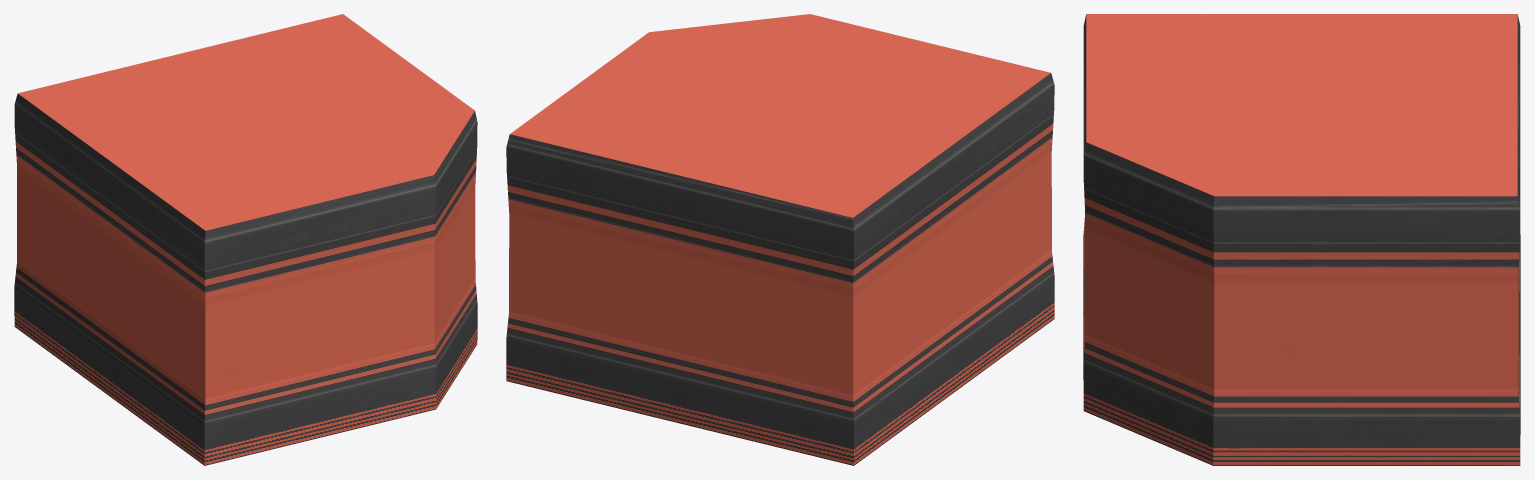
File: corner_rect90_coral.glb
The picture shows the model from 3 angles, left to right: view 1: azimuth 30°, elevation 25°; view 2: azimuth 150°, elevation 25°; view 3: azimuth 270°, elevation 25°; orthographic projection. The views are drawn at different scales.
Parts seen in each view (by area): view 1: corner_rect90_coral; view 2: corner_rect90_coral; view 3: corner_rect90_coral.
Part boxes in pixels (x1,y1,x2,y2): corner_rect90_coral: (14,14,477,465); corner_rect90_coral: (506,14,1054,465); corner_rect90_coral: (1083,14,1520,465).
Bounding box in the file's own units: 0.7399 × 0.5016 × 0.7399.
Materials: 1 (1 with a texture image).
